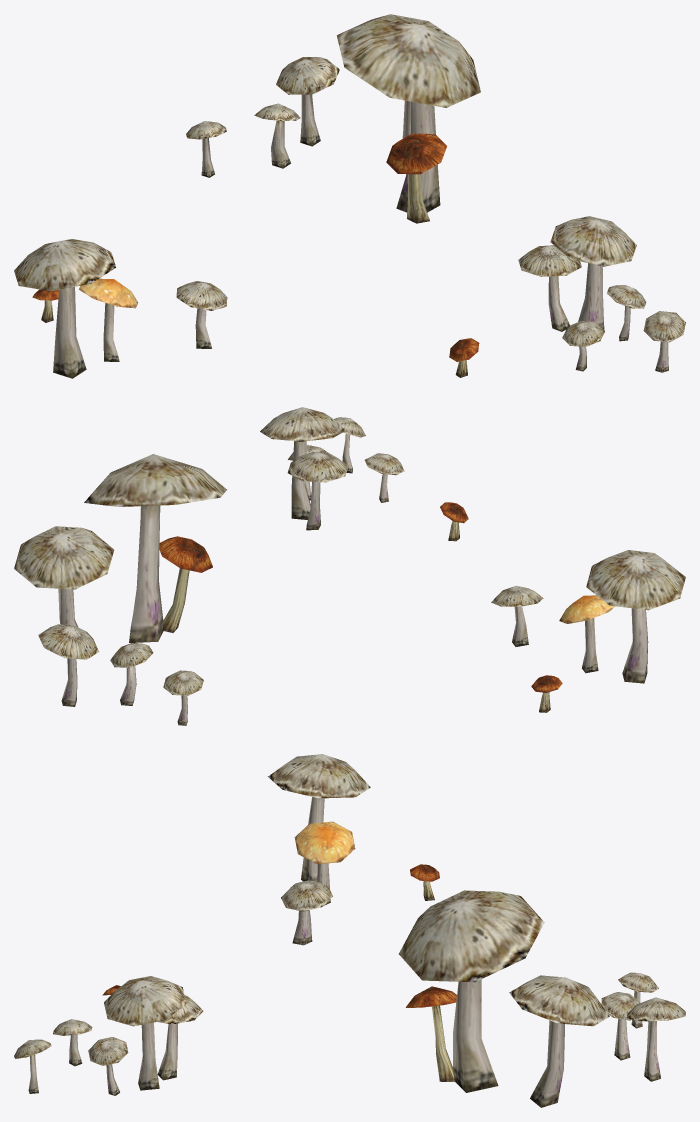
The model's file is mogu_42.FBX.
The picture shows the model from 3 angles, top to bottom: view 1: azimuth 30°, elevation 25°; view 2: azimuth 150°, elevation 25°; view 3: azimuth 270°, elevation 25°; orthographic projection. The views are drawn at different scales.
Parts seen in each view (by area): view 1: mogu_42; view 2: mogu_42; view 3: mogu_42.
Part boxes in pixels (left/top/right/bottom): mogu_42: left=14, top=14, right=685, bottom=378; mogu_42: left=14, top=407, right=685, bottom=725; mogu_42: left=14, top=754, right=685, bottom=1107.
Size of the model in its own units: 154 by 48.34 by 165.
